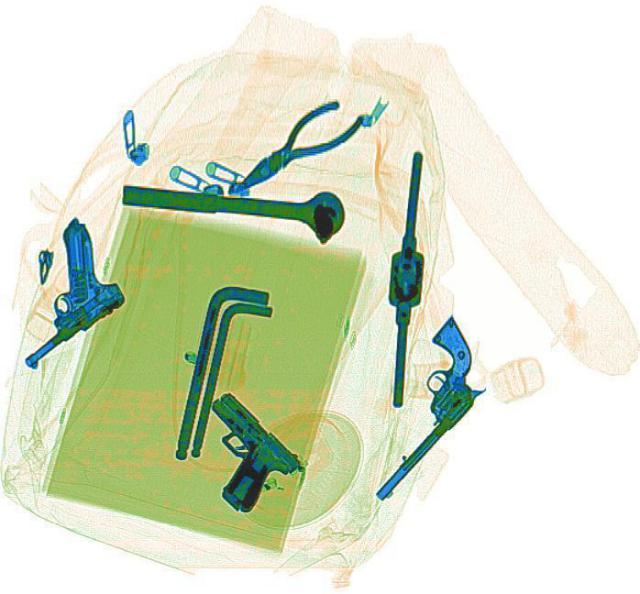Gun: (319, 312, 515, 501), (158, 387, 310, 518), (24, 213, 136, 375)
Pliers: (222, 88, 368, 207)
